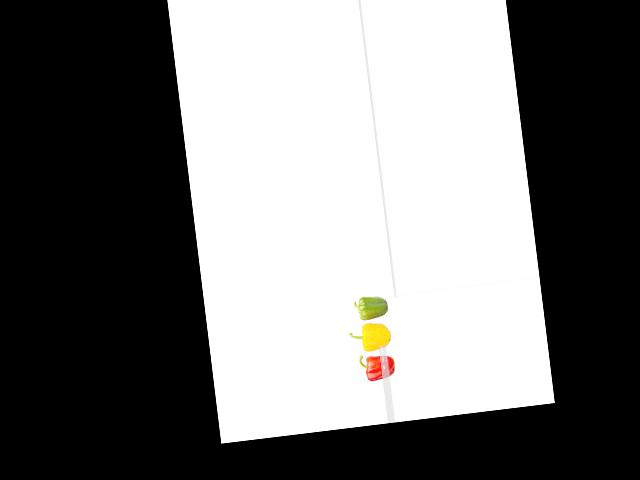bell_pepper: (347, 291, 391, 321)
